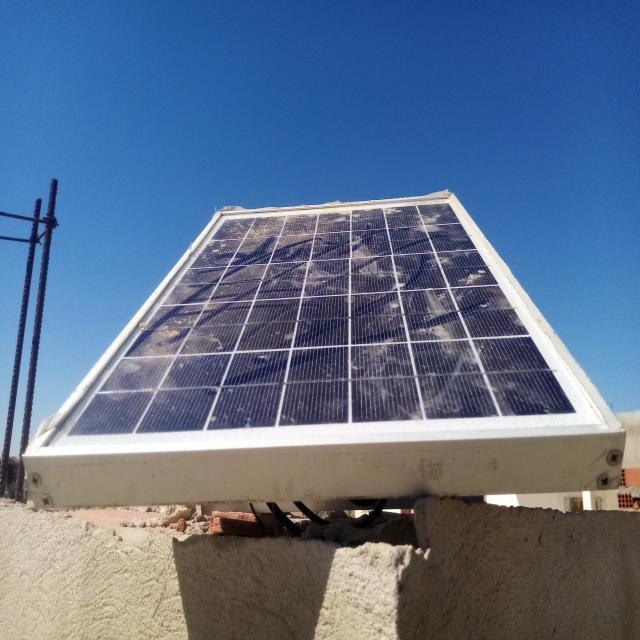faulty: (35, 193, 622, 453)
